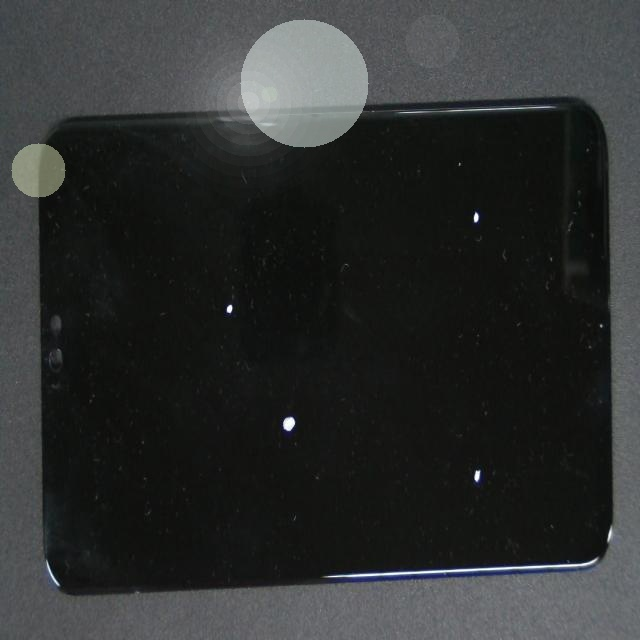stain: (254, 233, 640, 640), (161, 187, 428, 600), (269, 112, 640, 303), (121, 140, 341, 433)
